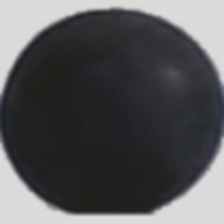grapes: (27, 39, 184, 205)
